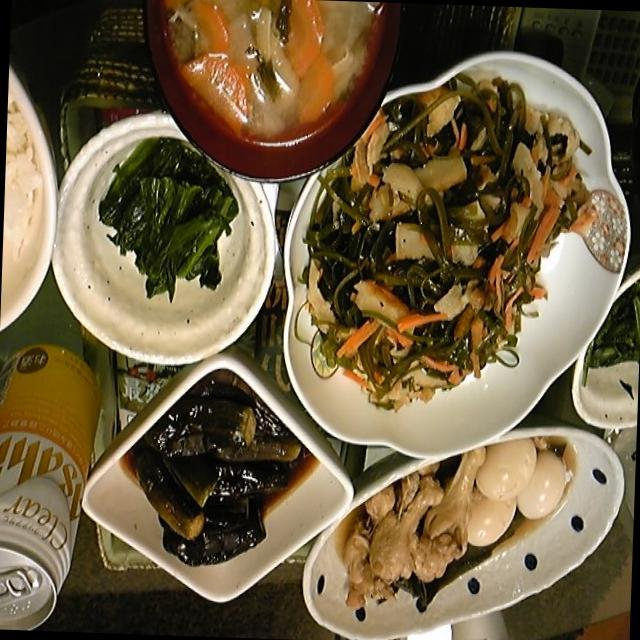Rice: (126, 211, 158, 353)
